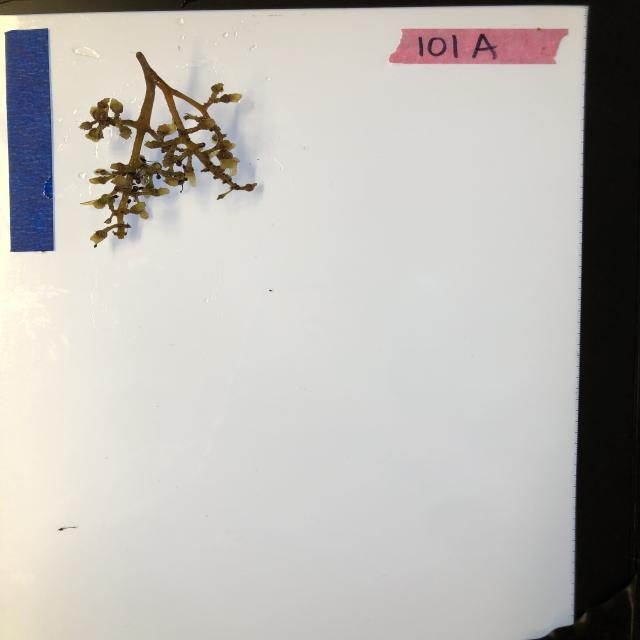index: (390, 26, 568, 64)
measure_label: (2, 27, 58, 254)
rachis_cluster: (78, 49, 264, 249)
